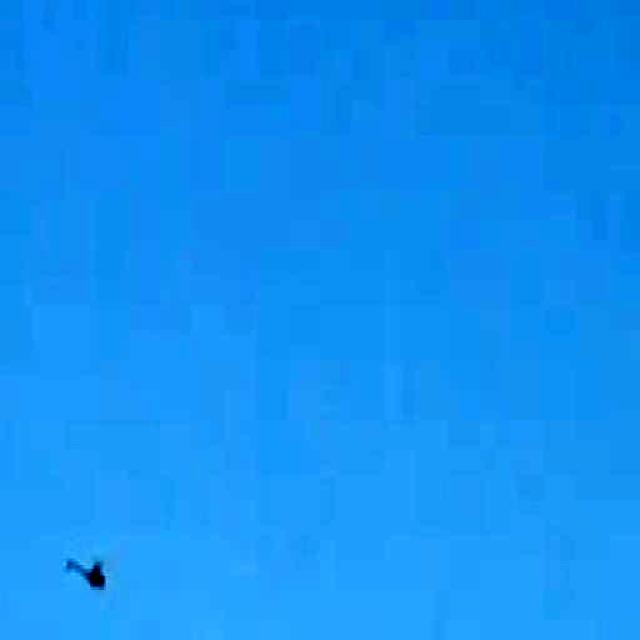drone: (61, 549, 118, 599)
